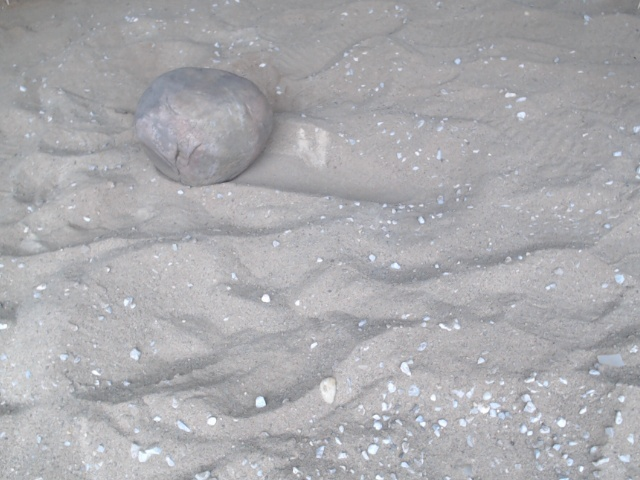rock: (128, 61, 280, 195)
